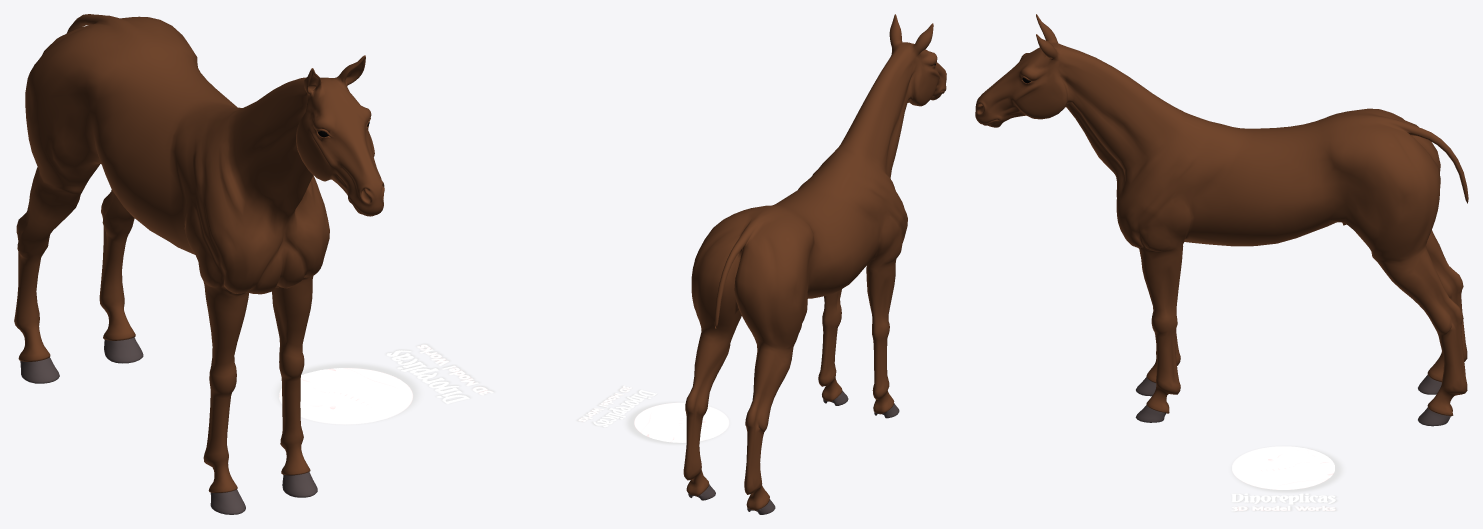
File: Horse.glb
3 renders of one model, left to right at view 1: azimuth 30°, elevation 25°; view 2: azimuth 150°, elevation 25°; view 3: azimuth 270°, elevation 25°, orthographic. The views are drawn at different scales.
Visible parts, largest first — view 1: Object_3, Object_2, Object_6; view 2: Object_3, Object_2, Object_6; view 3: Object_3, Object_2, Object_6.
Boxes of the visible parts, x1,y1,x2,y2 form: Object_3: (14,14,384,492); Object_2: (274,343,495,424); Object_6: (20,337,317,514); Object_3: (683,14,946,510); Object_2: (576,385,729,445); Object_6: (688,390,899,514); Object_3: (975,14,1468,416); Object_2: (1230,446,1344,512); Object_6: (1135,374,1450,426).
Size of the model in its own units: 1.87 by 2.42 by 2.84.
7 materials, 1 textured.
